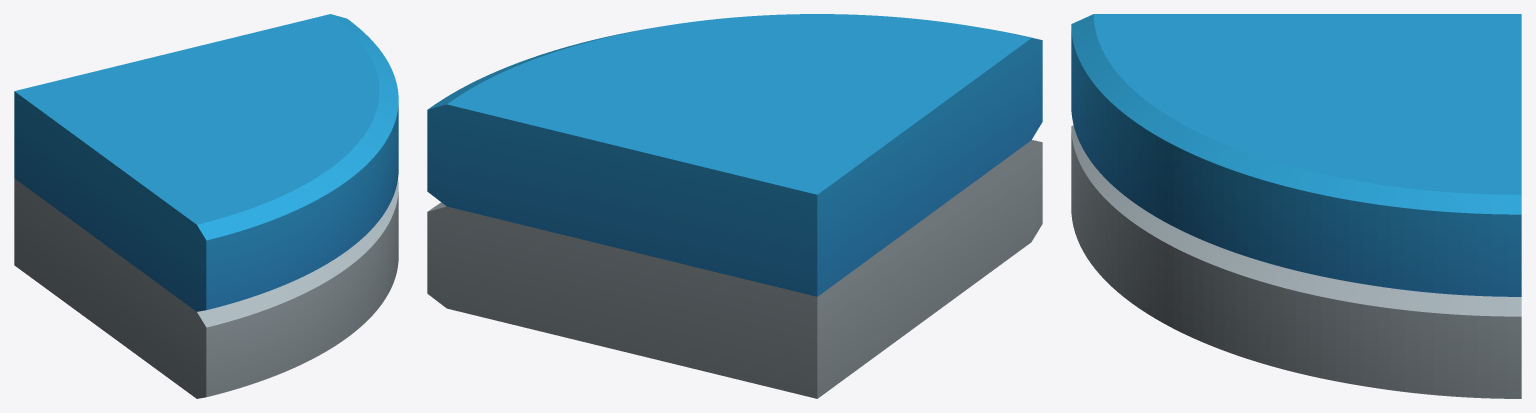
The model's file is kaykit_platform_quarter_circle_2x2x1_blue.glb.
3 views of the same model, side by side, from view 1: azimuth 30°, elevation 25°; view 2: azimuth 150°, elevation 25°; view 3: azimuth 270°, elevation 25° (orthographic). The views are drawn at different scales.
Parts seen in each view (by area): view 1: kaykit_platform_quarter_circle_blue_visual; view 2: kaykit_platform_quarter_circle_blue_visual; view 3: kaykit_platform_quarter_circle_blue_visual.
Part boxes in pixels (<box>): kaykit_platform_quarter_circle_blue_visual: <box>14,14,398,398</box>; kaykit_platform_quarter_circle_blue_visual: <box>427,14,1042,398</box>; kaykit_platform_quarter_circle_blue_visual: <box>1071,14,1521,398</box>.
Size of what is drawn, in the model's own units: 2 by 1 by 2.
1 material, 1 textured.
